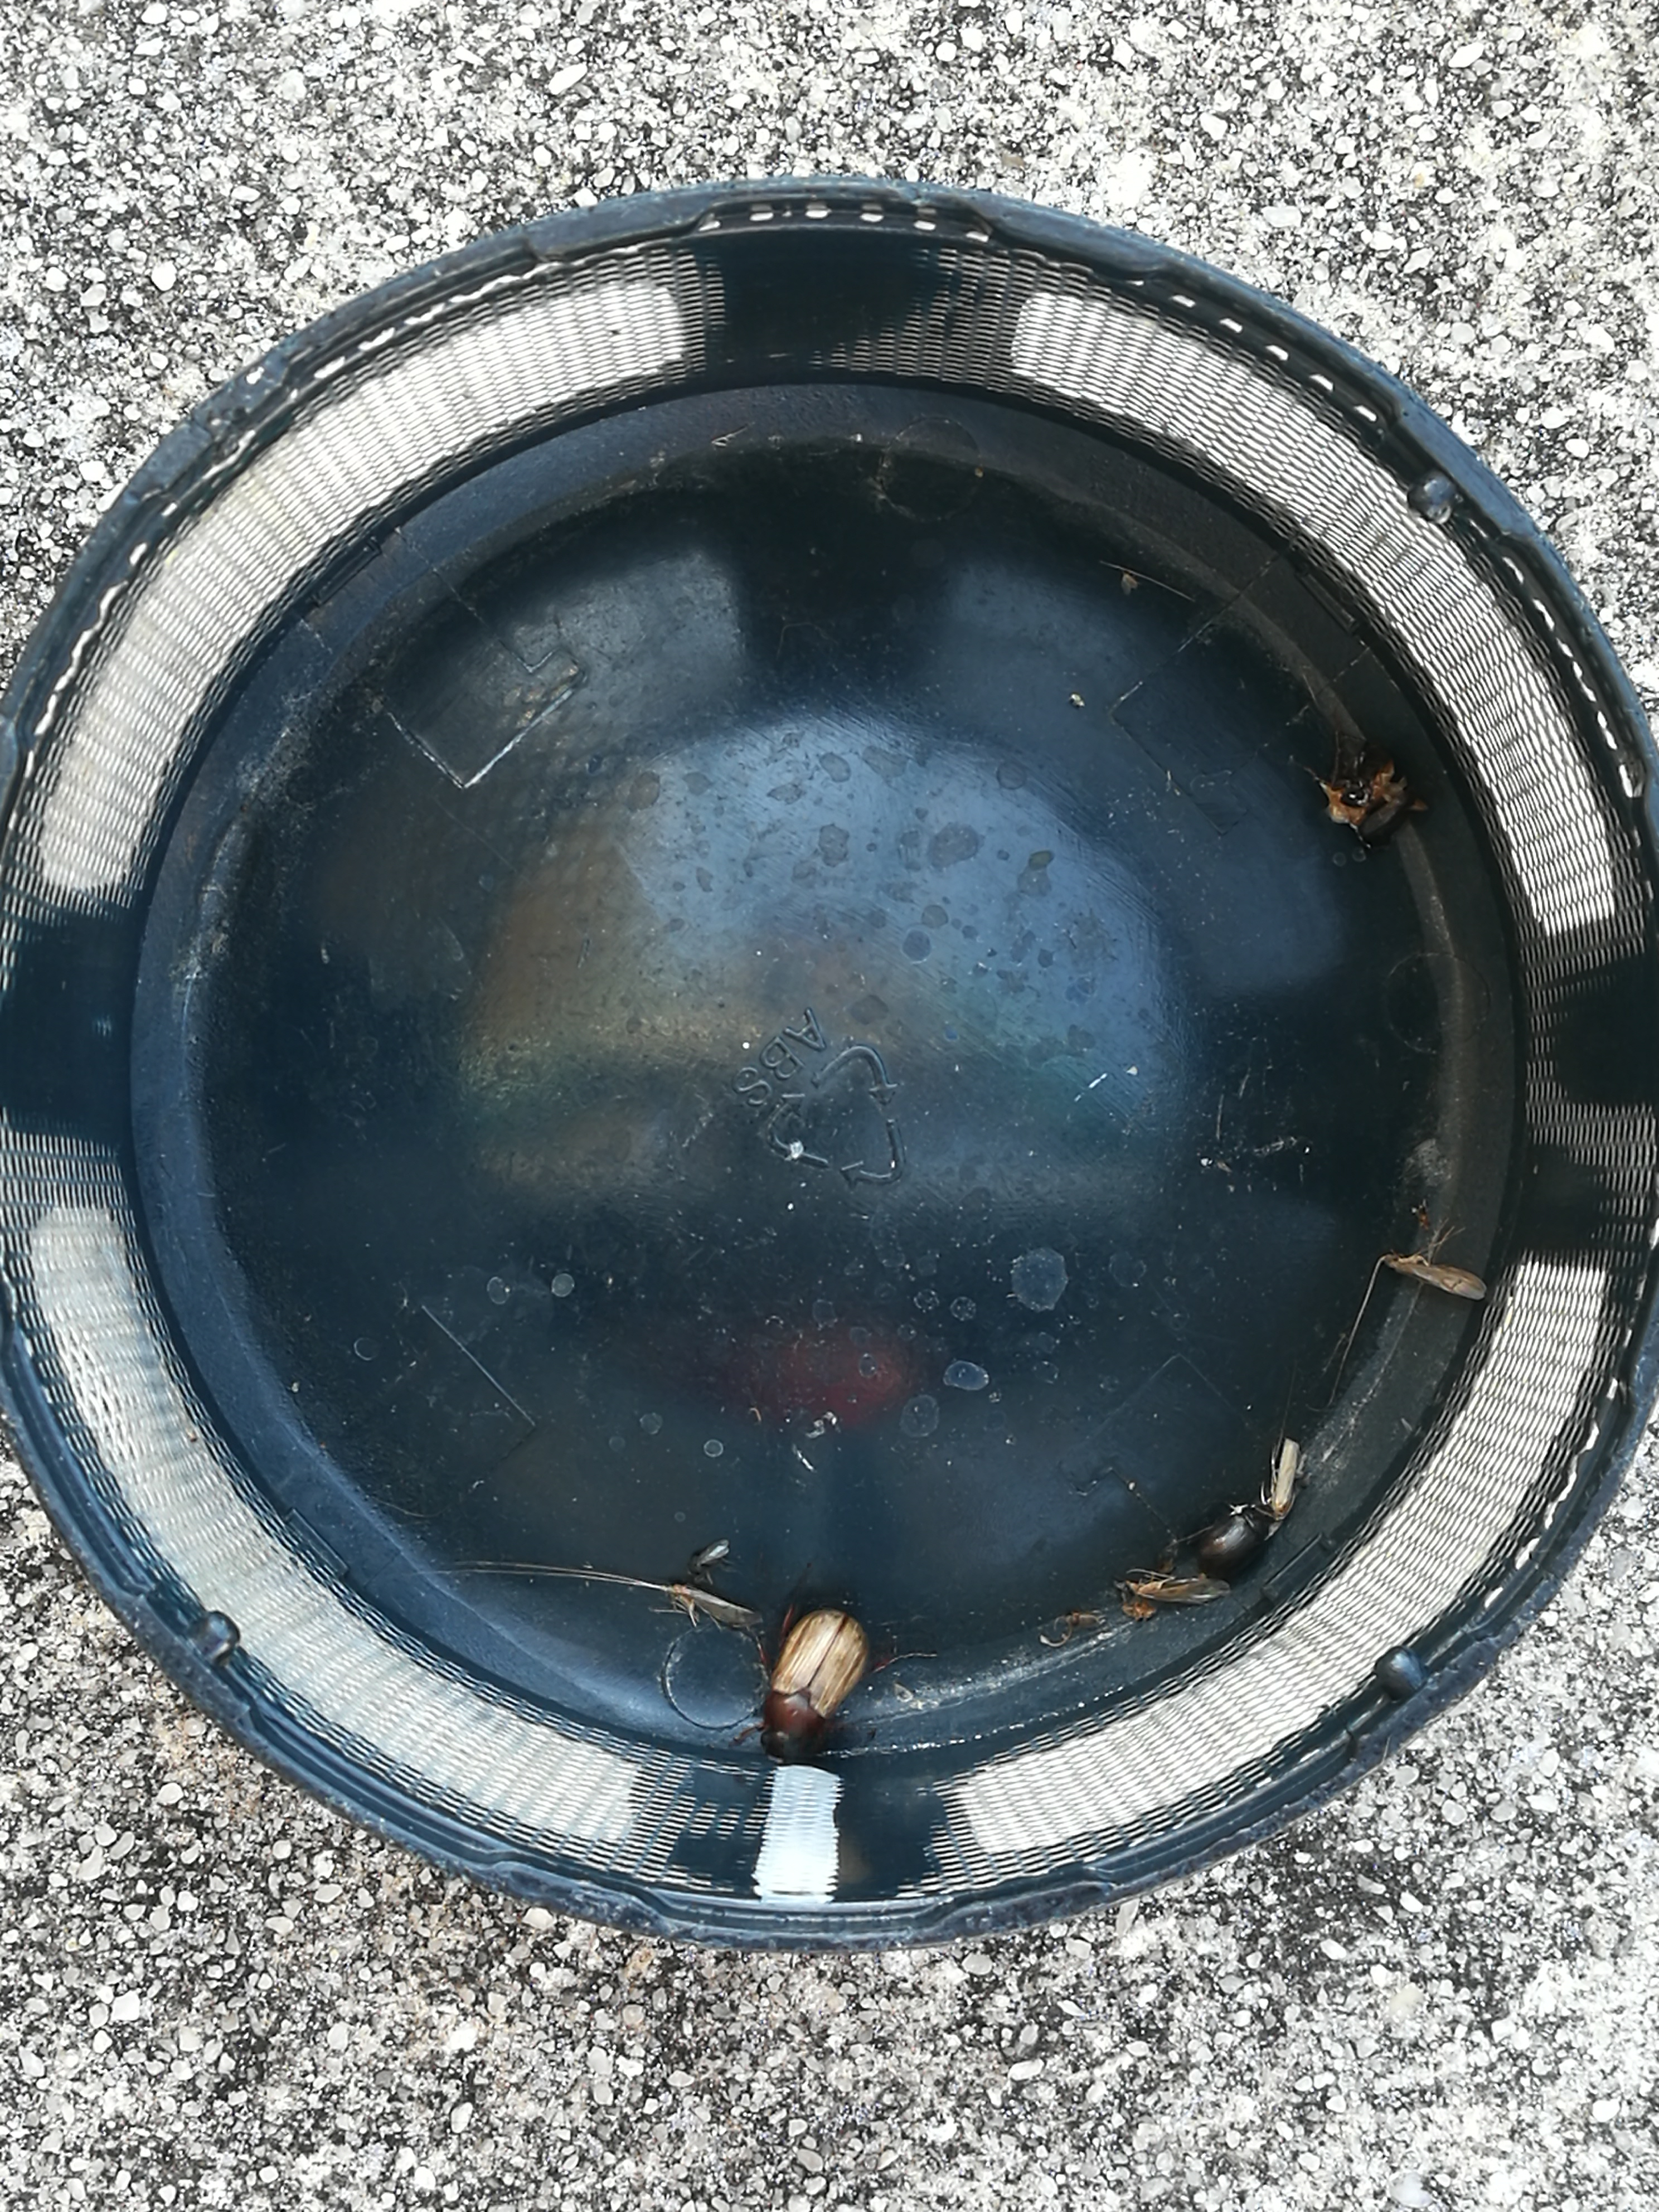beetle: (763, 1609, 866, 1759), (1199, 1507, 1267, 1578)
mosquito: (1382, 1252, 1486, 1299), (667, 1587, 762, 1629), (1124, 1576, 1225, 1602), (1270, 1439, 1297, 1519), (688, 1543, 728, 1573)
